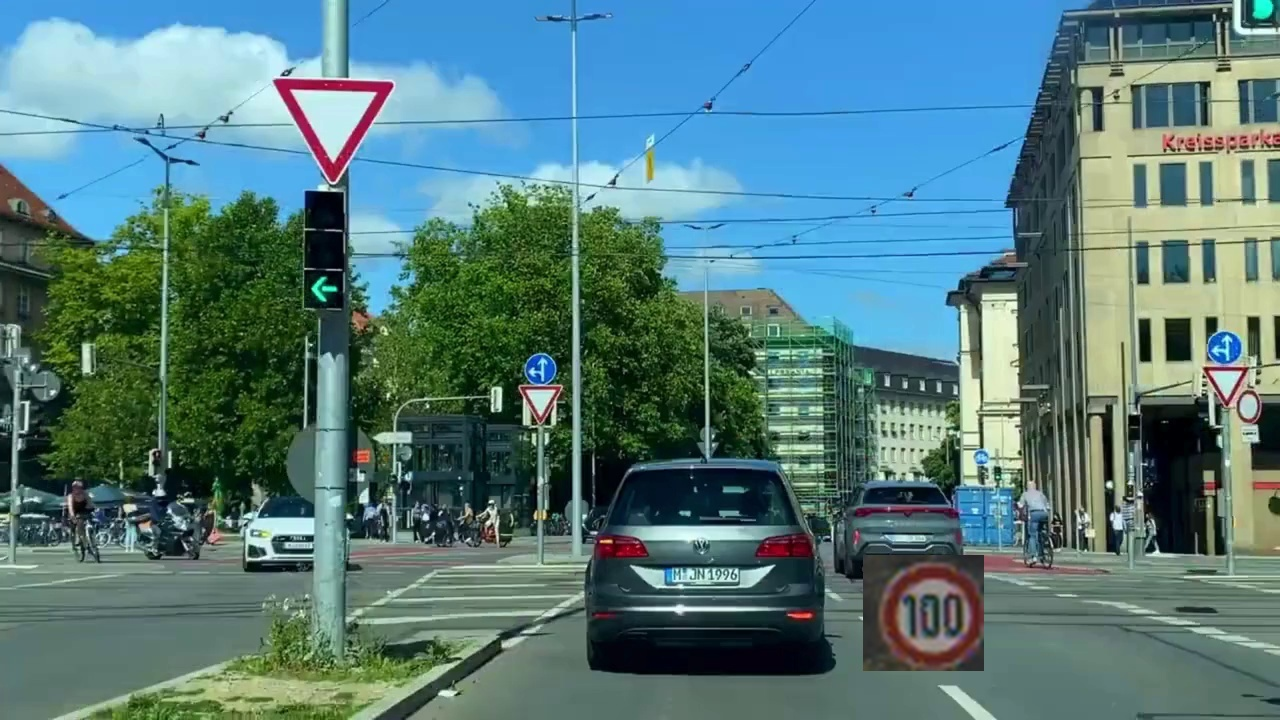Speed 100: (863, 555, 984, 671)
